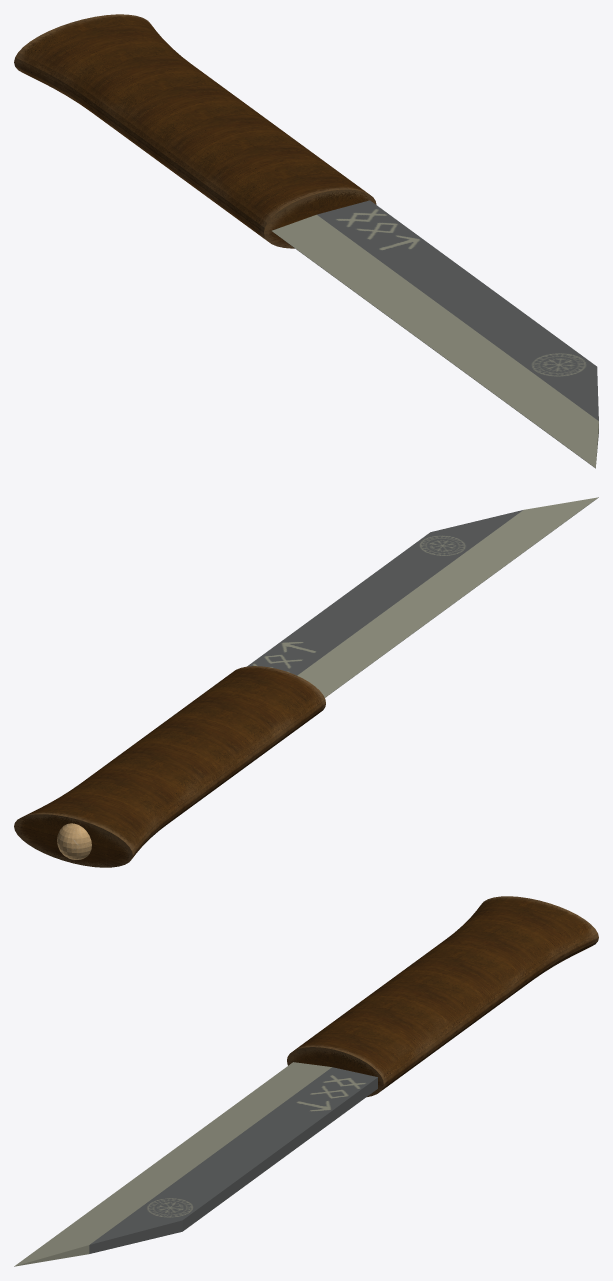
File: Knife.fbx
3 renders of one model, top to bottom at view 1: azimuth 30°, elevation 25°; view 2: azimuth 150°, elevation 25°; view 3: azimuth 330°, elevation 25°, orthographic. The views are drawn at different scales.
Parts seen in each view (by area): view 1: Handle, Blade, Knife; view 2: Handle, Blade, Knife, Header; view 3: Handle, Knife, Blade.
Part boxes in pixels (x1,y1,x2,y2): Handle: (14, 14, 376, 248); Blade: (271, 214, 598, 468); Knife: (317, 200, 598, 420); Handle: (14, 666, 325, 867); Blade: (297, 497, 598, 697); Knife: (247, 510, 522, 675); Header: (57, 823, 91, 859); Handle: (287, 896, 598, 1096); Knife: (89, 1067, 377, 1253); Blade: (14, 1062, 331, 1266).
Size of the model in its own units: 4.9 by 1.78 by 35.13.
1 material, 1 textured.
